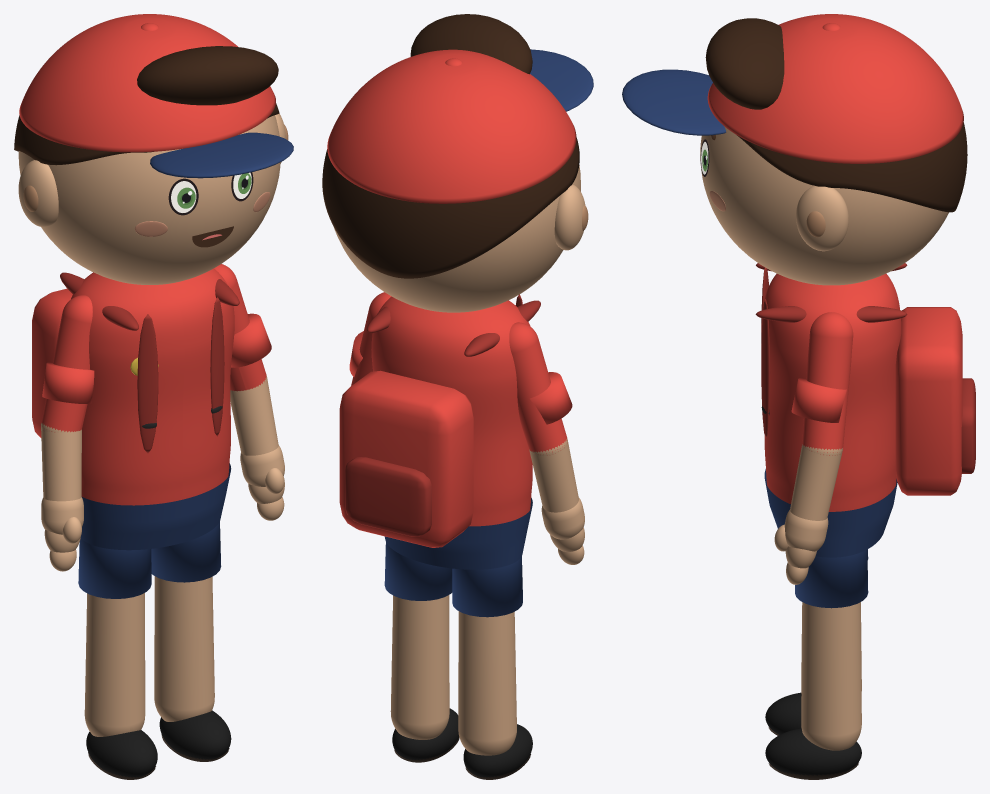
File: postbode.glb
3 views of the same model, side by side, from view 1: azimuth 30°, elevation 25°; view 2: azimuth 150°, elevation 25°; view 3: azimuth 270°, elevation 25° (orthographic). The views are drawn at different scales.
Visible parts, largest first — view 1: postbode_romp, postbode_pet, postbode_hoofd, postbode_been_L, postbode_been_R, postbode_haar_kuif, postbode_short_heup, postbode_pet_klep, postbode_short_R, postbode_bovenarm_R, postbode_short_L, postbode_onderarm_R (+15 smaller); view 2: postbode_pet, postbode_romp, postbode_rugzak, postbode_haar, postbode_hoofd, postbode_been_L, postbode_been_R, postbode_rugzak_vak, postbode_short_heup, postbode_haar_kuif, postbode_bovenarm_R, postbode_short_R (+10 smaller); view 3: postbode_pet, postbode_romp, postbode_hoofd, postbode_rugzak, postbode_been_L, postbode_haar, postbode_haar_kuif, postbode_pet_klep, postbode_bovenarm_L, postbode_short_heup, postbode_short_L, postbode_schoen_L (+8 smaller).
Part boxes in pixels (x1=…): postbode_romp: x1=71, y1=268, x2=234, y2=505; postbode_pet: x1=19, y1=14, x2=275, y2=152; postbode_hoofd: x1=18, y1=115, x2=280, y2=284; postbode_been_L: x1=154, y1=576, x2=214, y2=721; postbode_been_R: x1=84, y1=593, x2=145, y2=736; postbode_haar_kuif: x1=137, y1=46, x2=278, y2=105; postbode_short_heup: x1=80, y1=463, x2=231, y2=550; postbode_pet_klep: x1=150, y1=132, x2=293, y2=178; postbode_short_R: x1=78, y1=538, x2=151, y2=598; postbode_bovenarm_R: x1=41, y1=295, x2=92, y2=432; postbode_short_L: x1=151, y1=521, x2=221, y2=582; postbode_onderarm_R: x1=41, y1=427, x2=81, y2=501; postbode_pet: x1=327, y1=49, x2=576, y2=203; postbode_romp: x1=371, y1=296, x2=532, y2=526; postbode_rugzak: x1=339, y1=370, x2=473, y2=547; postbode_haar: x1=322, y1=137, x2=579, y2=278; postbode_hoofd: x1=334, y1=165, x2=580, y2=312; postbode_been_L: x1=390, y1=595, x2=449, y2=739; postbode_been_R: x1=458, y1=611, x2=516, y2=755; postbode_rugzak_vak: x1=345, y1=457, x2=431, y2=536; postbode_short_heup: x1=384, y1=498, x2=532, y2=569; postbode_haar_kuif: x1=410, y1=14, x2=532, y2=74; postbode_bovenarm_R: x1=509, y1=322, x2=567, y2=455; postbode_short_R: x1=452, y1=556, x2=522, y2=617; postbode_pet: x1=707, y1=14, x2=963, y2=163; postbode_romp: x1=761, y1=273, x2=901, y2=511; postbode_hoofd: x1=700, y1=126, x2=948, y2=285; postbode_rugzak: x1=895, y1=307, x2=962, y2=495; postbode_been_L: x1=801, y1=602, x2=861, y2=750; postbode_haar: x1=737, y1=122, x2=967, y2=212; postbode_haar_kuif: x1=705, y1=18, x2=784, y2=109; postbode_pet_klep: x1=622, y1=69, x2=726, y2=135; postbode_bovenarm_L: x1=802, y1=312, x2=853, y2=455; postbode_short_heup: x1=764, y1=469, x2=897, y2=557; postbode_short_L: x1=795, y1=549, x2=868, y2=608; postbode_schoen_L: x1=765, y1=728, x2=861, y2=775.
Bounding box in the file's own units: 0.6749 × 1.82 × 0.7922.
